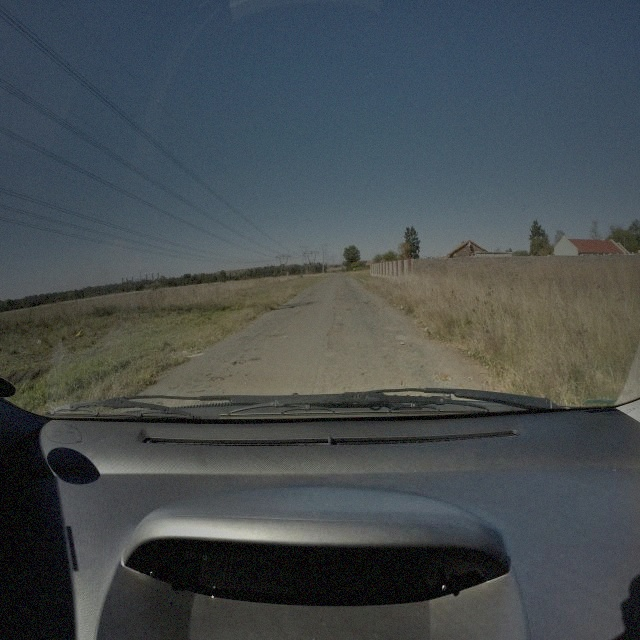pothole: (434, 371, 451, 385), (266, 331, 289, 341), (327, 328, 340, 338), (234, 356, 247, 365), (212, 374, 224, 383), (250, 354, 260, 361), (366, 299, 374, 306), (347, 305, 353, 312)
